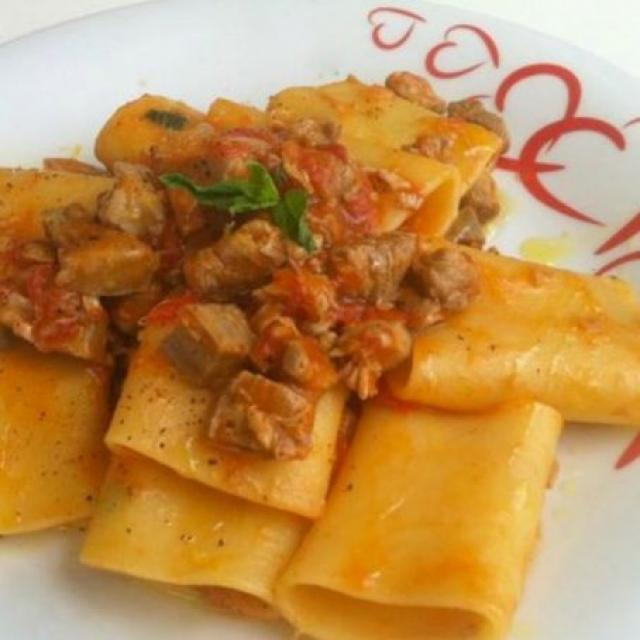Pasta al ragu: (1, 38, 605, 628)
